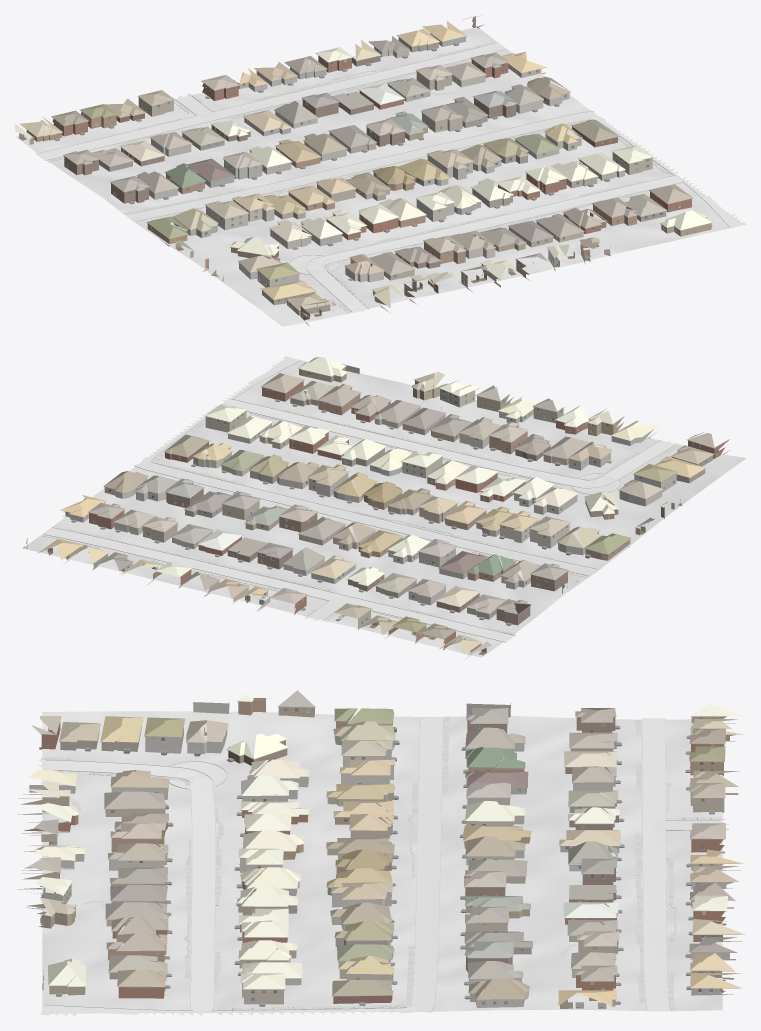
The picture shows the model from 3 angles, top to bottom: view 1: azimuth 30°, elevation 25°; view 2: azimuth 150°, elevation 25°; view 3: azimuth 270°, elevation 25°; orthographic projection. The views are drawn at different scales.
Parts seen in each view (by area): view 1: roof, ground, wall, concrete, wall_stucco, detail, wall_stone, curb, walk, glass, room; view 2: roof, ground, wall, concrete, wall_stucco, detail, wall_stone, walk, curb, glass; view 3: ground, roof, concrete, wall, detail, walk, wall_stucco, wall_stone, curb, glass.
Boxes of the visible parts, bbox=[...] form: roof: bbox=[14, 21, 712, 310]; ground: bbox=[16, 27, 740, 326]; wall: bbox=[26, 16, 711, 325]; concrete: bbox=[36, 43, 746, 313]; wall_stucco: bbox=[173, 34, 652, 287]; detail: bbox=[25, 15, 712, 316]; wall_stone: bbox=[137, 46, 624, 312]; curb: bbox=[36, 42, 729, 313]; walk: bbox=[48, 41, 674, 313]; glass: bbox=[55, 49, 678, 308]; room: bbox=[19, 70, 680, 319]; roof: bbox=[37, 356, 714, 655]; ground: bbox=[22, 359, 746, 657]; wall: bbox=[26, 367, 729, 658]; concrete: bbox=[44, 356, 678, 641]; wall_stucco: bbox=[63, 364, 610, 596]; detail: bbox=[23, 366, 723, 651]; wall_stone: bbox=[63, 423, 676, 611]; walk: bbox=[42, 407, 680, 634]; curb: bbox=[42, 360, 680, 642]; glass: bbox=[65, 370, 705, 643]; ground: bbox=[42, 711, 722, 1013]; roof: bbox=[26, 690, 745, 1005]; concrete: bbox=[37, 718, 728, 1016]; wall: bbox=[17, 698, 741, 1003]; detail: bbox=[18, 698, 739, 1007]; walk: bbox=[41, 716, 722, 1010]; wall_stucco: bbox=[21, 736, 733, 1004]; wall_stone: bbox=[23, 702, 740, 1007]; curb: bbox=[40, 718, 728, 1011]; glass: bbox=[41, 708, 715, 1004].
Size of the model in its own units: 259 by 13.48 by 269.
